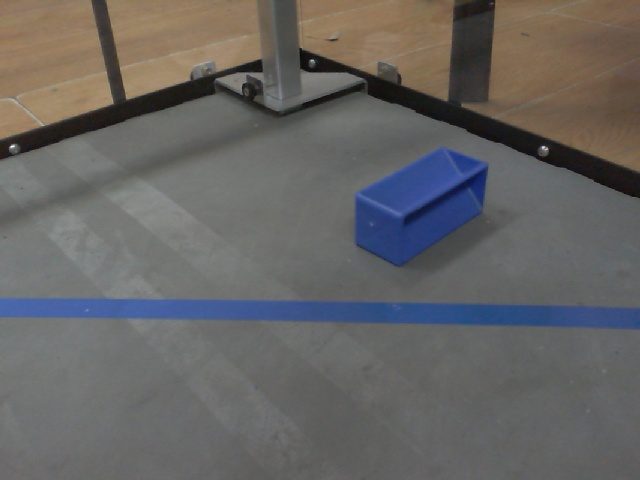BlueSample: (351, 144, 488, 272)
